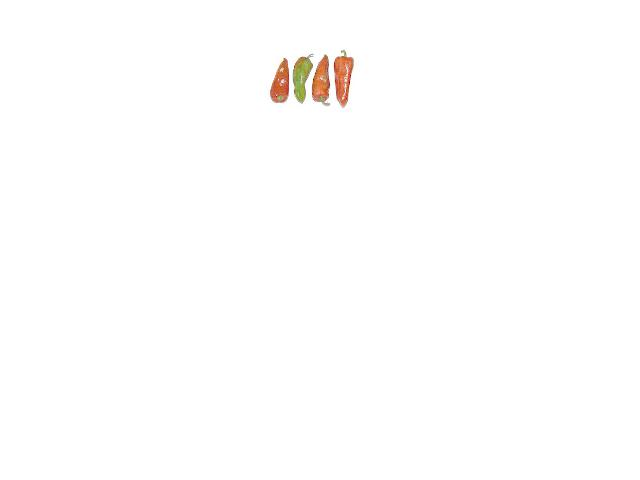bell_pepper: (264, 53, 290, 104)
